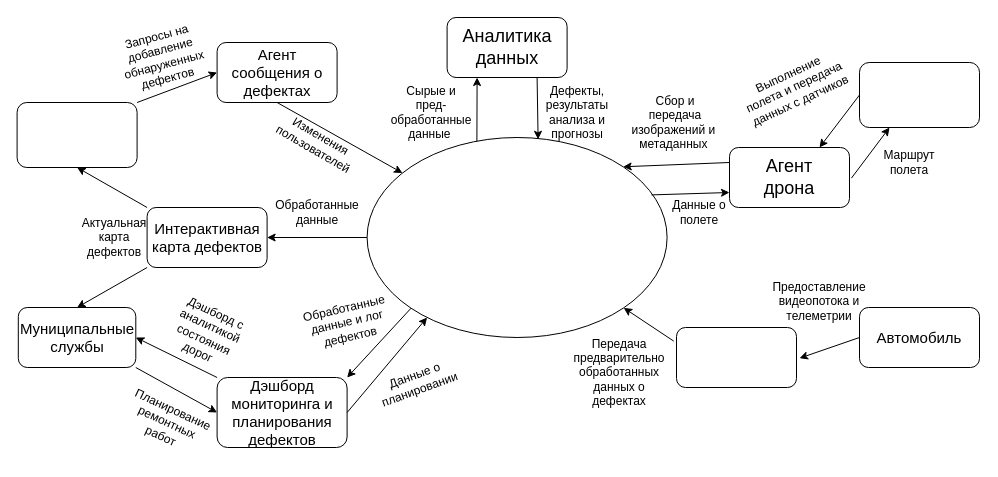
Image size: 998x477. Some labels were removed from this diagram. The shapes that lost their labels are listed below. From the top down, each one's centre as x and y in pixels, then its label:
the point at 919,95: Дрон
the point at 76,135: Пешеходы и водители
the point at 516,237: Система мониторинга дорожного покрытия
the point at 736,357: Автомобиль-ный агент
